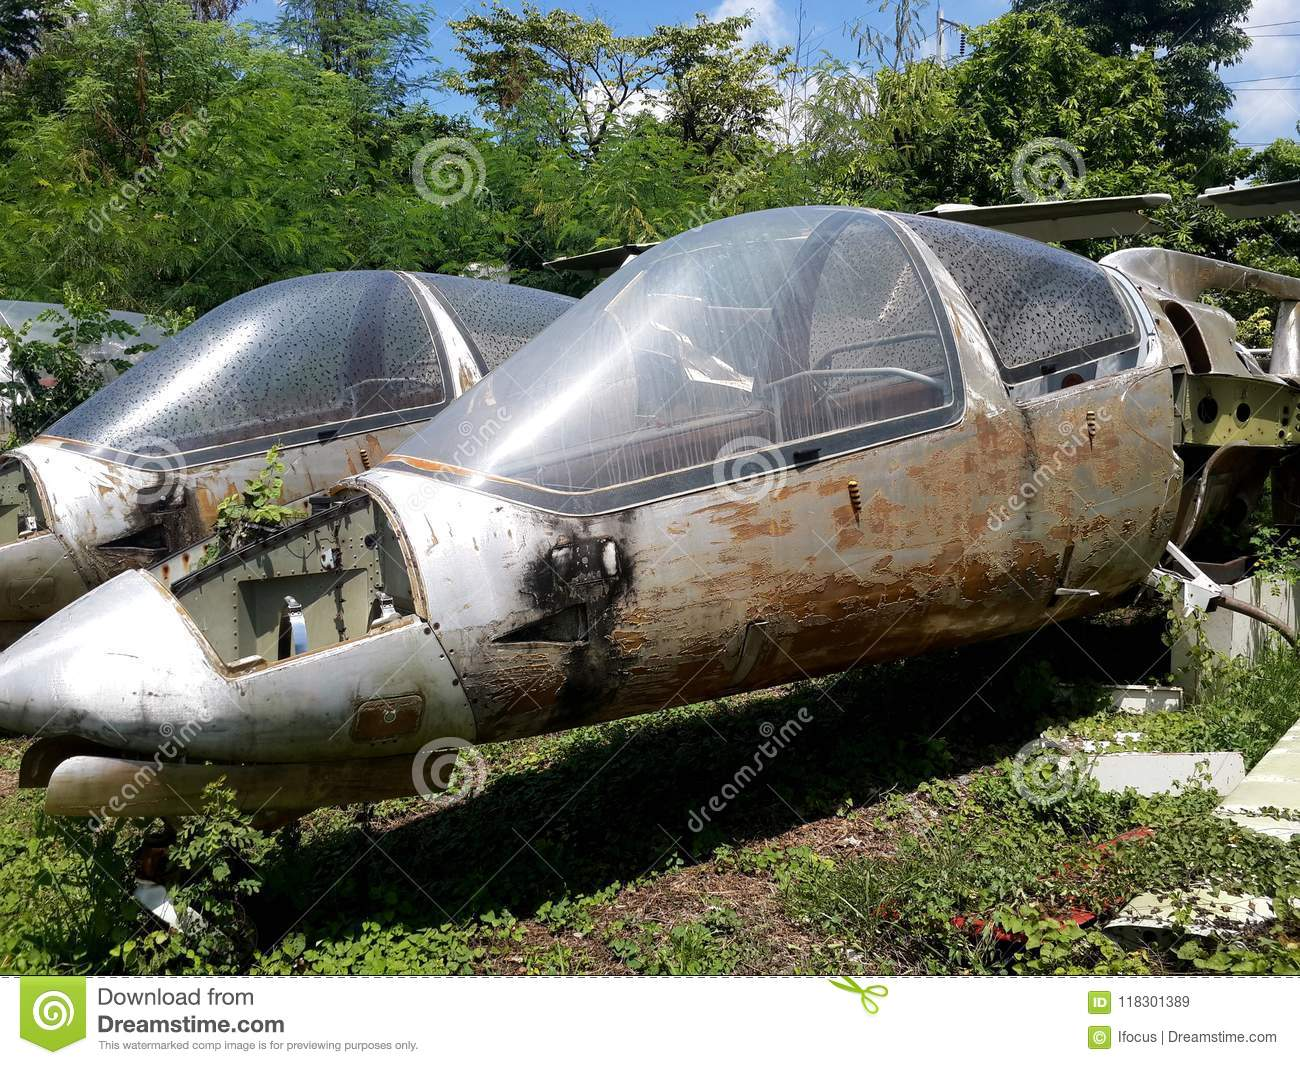rust: (718, 505, 1046, 628)
